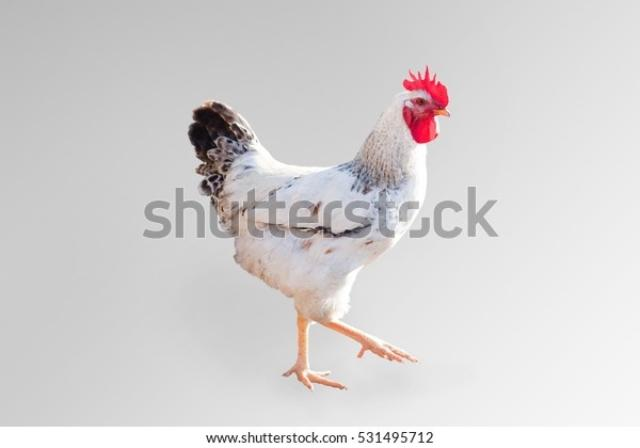Chicken: (189, 66, 450, 389)
